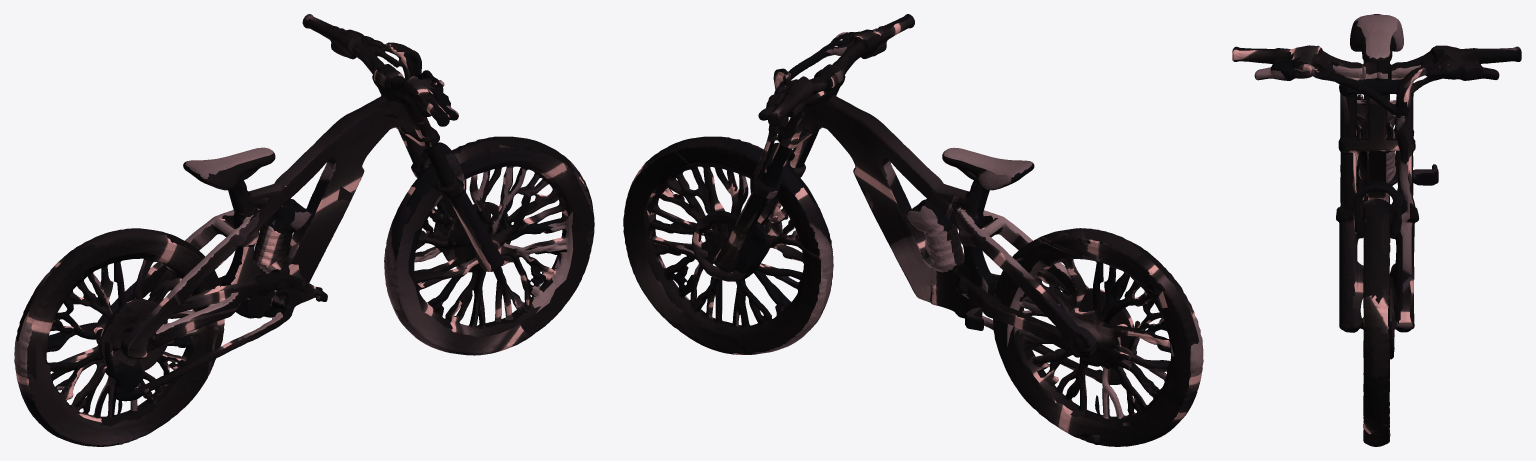
Rendered from 5b133dc8-d85c-4378-a771-9b5ffc9c2251.glb.
3 views of the same model, side by side, from view 1: azimuth 30°, elevation 25°; view 2: azimuth 150°, elevation 25°; view 3: azimuth 270°, elevation 25° (orthographic). The views are drawn at different scales.
Parts seen in each view (by area): view 1: world; view 2: world; view 3: world.
Part boxes in pixels (<box>): world: <box>14,14,594,446</box>; world: <box>623,14,1203,446</box>; world: <box>1232,14,1521,446</box>.
Size of the model in its own units: 1.99 by 1.06 by 0.8289.
Materials: 1 (1 with a texture image).
